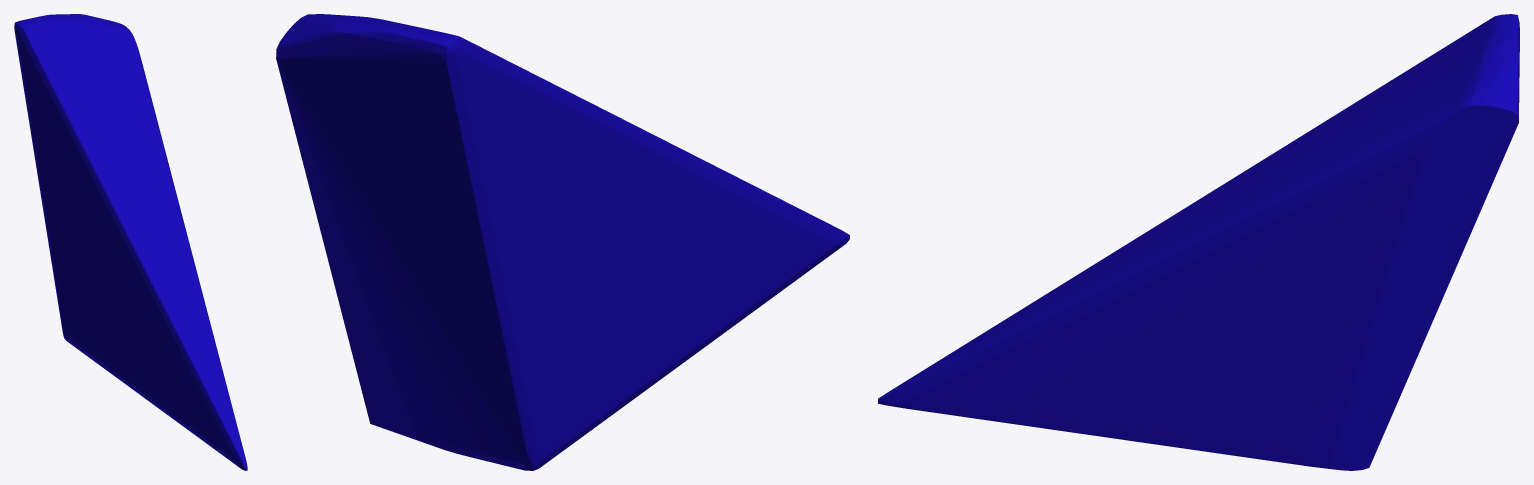
File: right-shoulder-roll-0_part_5.obj
3 views of the same model, side by side, from view 1: azimuth 30°, elevation 25°; view 2: azimuth 150°, elevation 25°; view 3: azimuth 270°, elevation 25° (orthographic). The views are drawn at different scales.
Size of the model in its own units: 0.014 by 0.0378 by 0.0561.
